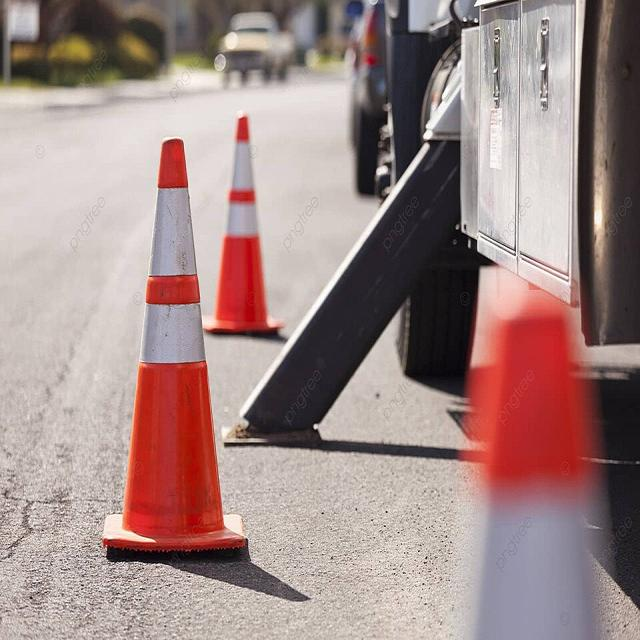Traffic Cone: (84, 112, 264, 564), (201, 94, 295, 350)
